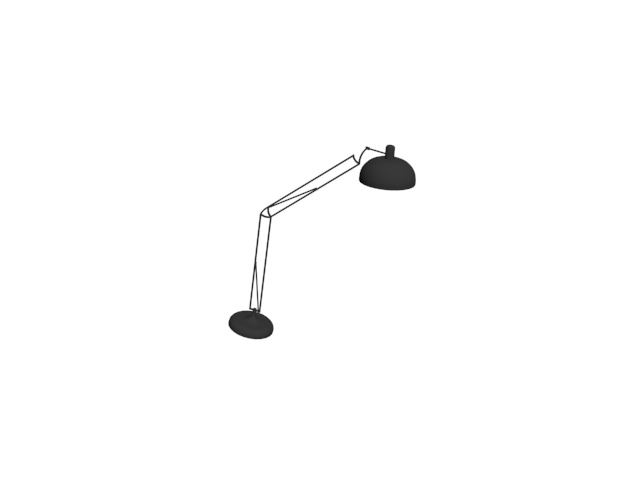desk_lamp: (225, 145, 418, 344)
